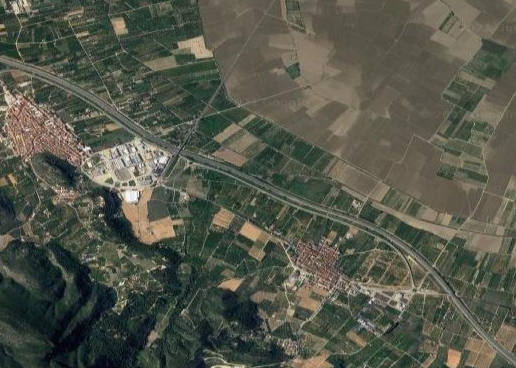bridge: (174, 146, 183, 156)
industrial: (94, 142, 171, 193)
motorway: (435, 270, 482, 326), (168, 143, 238, 175), (238, 172, 308, 204), (308, 203, 382, 232), (383, 231, 434, 273), (115, 112, 171, 146), (1, 54, 66, 82), (475, 326, 516, 368), (64, 79, 114, 113)
